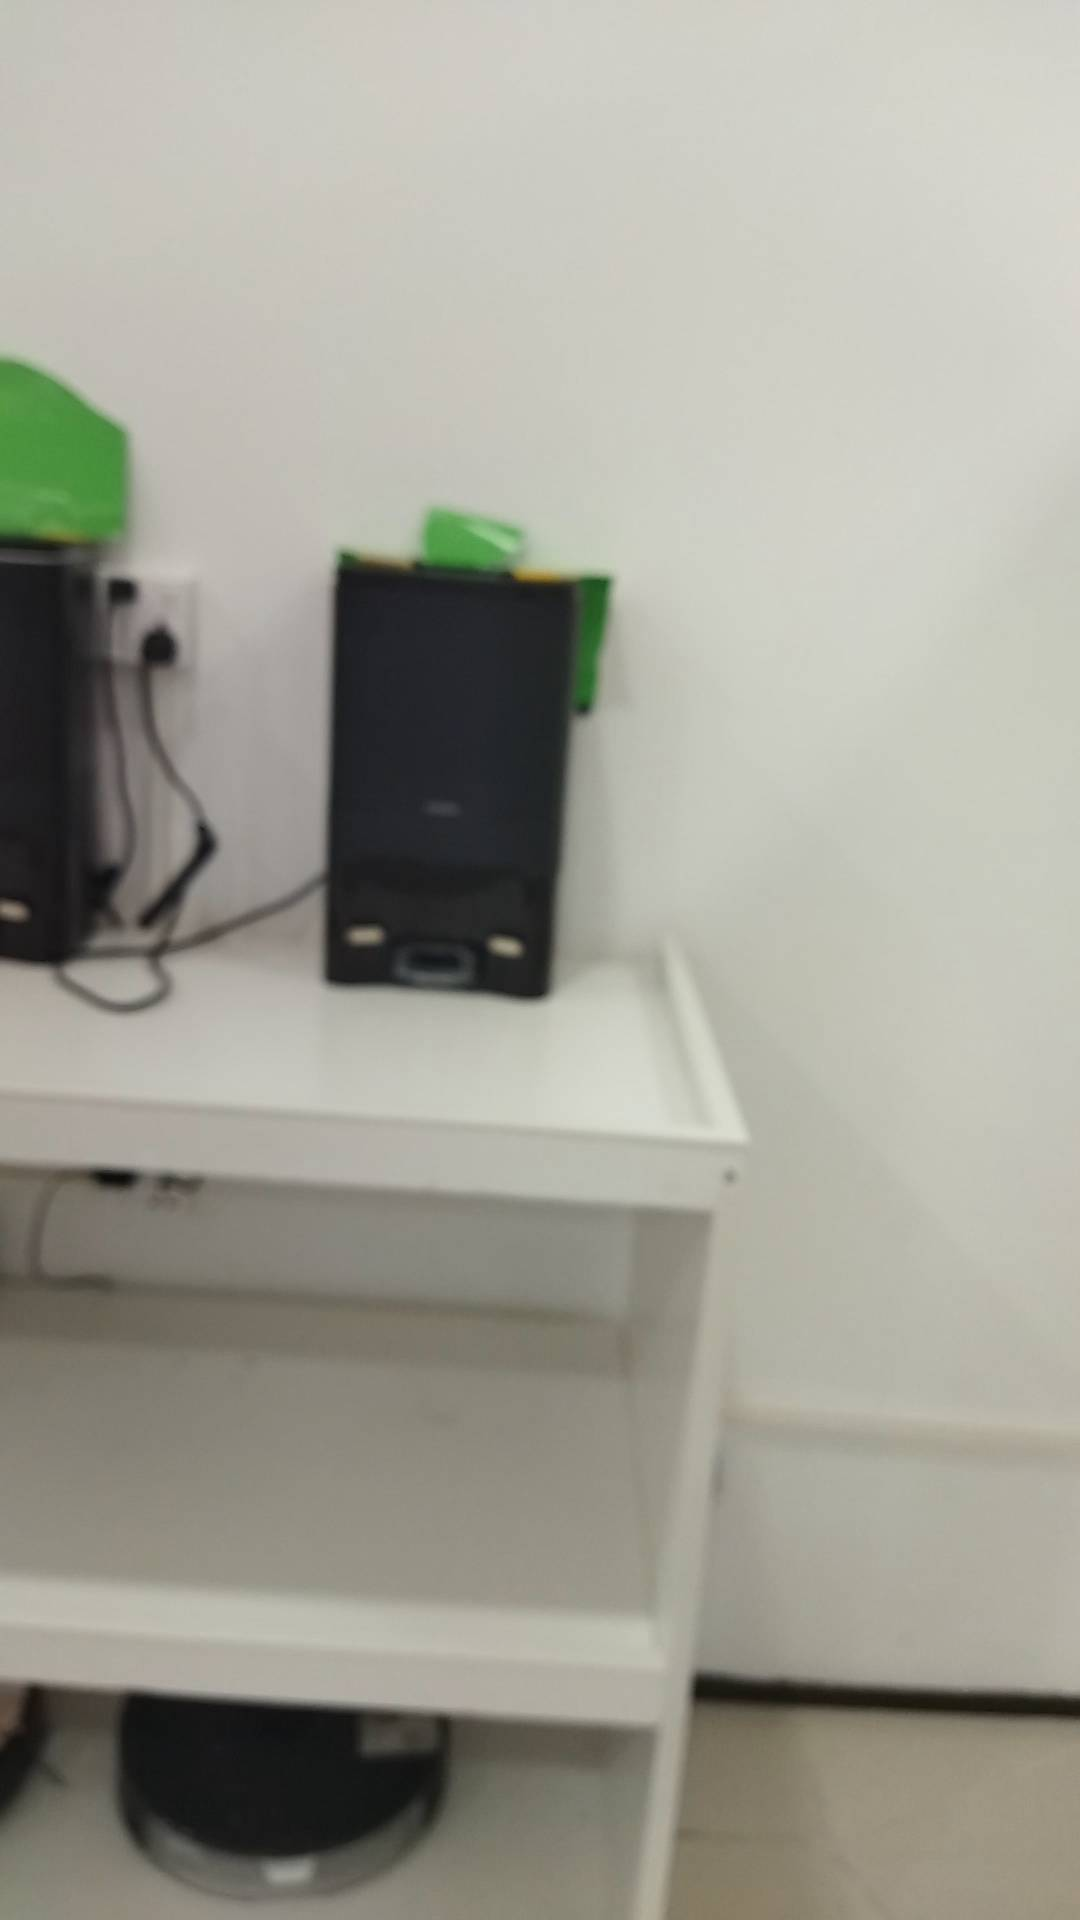dust collecting barrel: (316, 554, 578, 1004), (1, 530, 91, 975)
